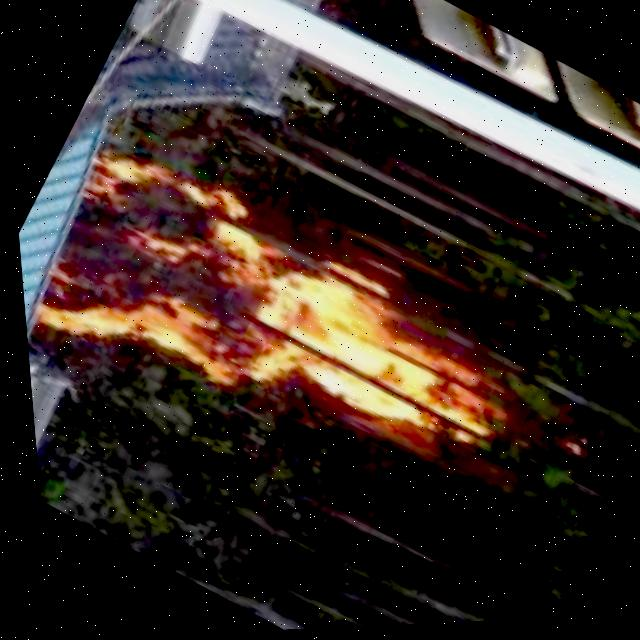Fire: (19, 126, 553, 547)
